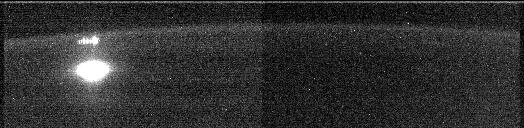positive: (74, 34, 102, 49)
